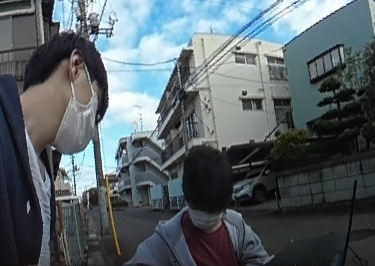person: (125, 146, 263, 266)
